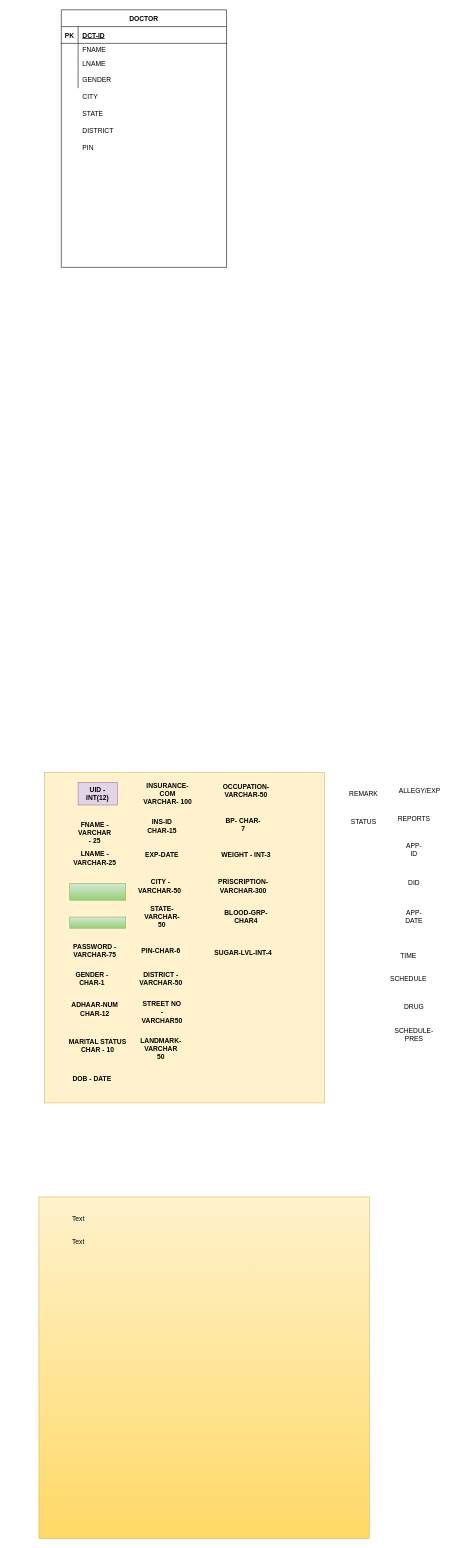
The diagram is 450 pixels wide and 1548 high, and some of its shapes have lost their labels. The shapes that lost their labels are listed below. From the top down, each one's centre as x and y in pixels, then its label:
At (x=97, y=891): "PHONE - CHAR-13".
At (x=97, y=922): "EMAIL - VARCHAR-100".
